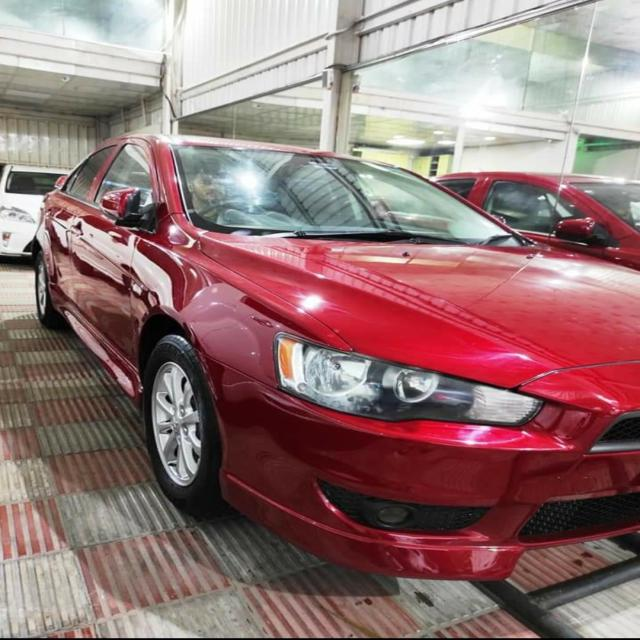red: (47, 110, 639, 640), (427, 159, 640, 276)
